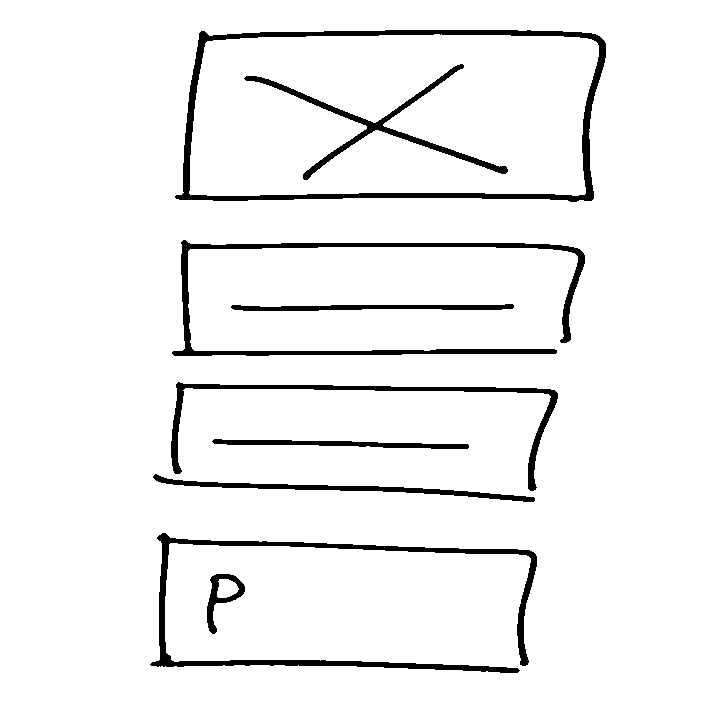button: (147, 375, 563, 510), (166, 233, 592, 363)
paragraph: (148, 526, 544, 680)
picture: (170, 19, 609, 219)
